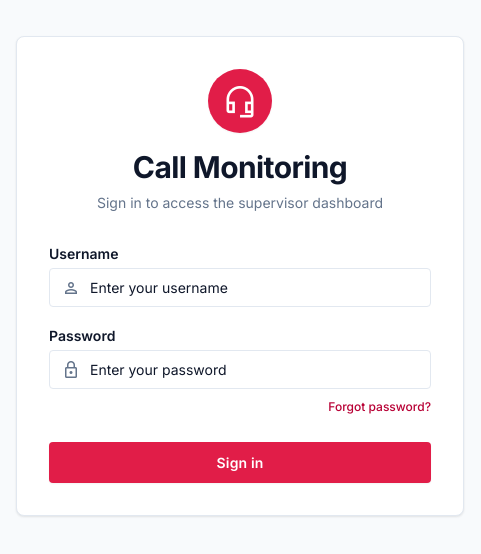
Test: LoginView › shows an error message on invalid credentials
Type "admin" into the field labelled "Username" at (240, 288), box [49,268,431,307]
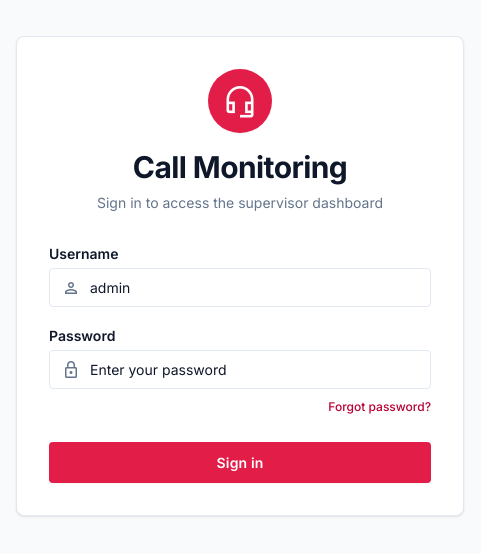
Type "wrong" into the password field labelled "Password" at (240, 370), box [49,350,431,389]
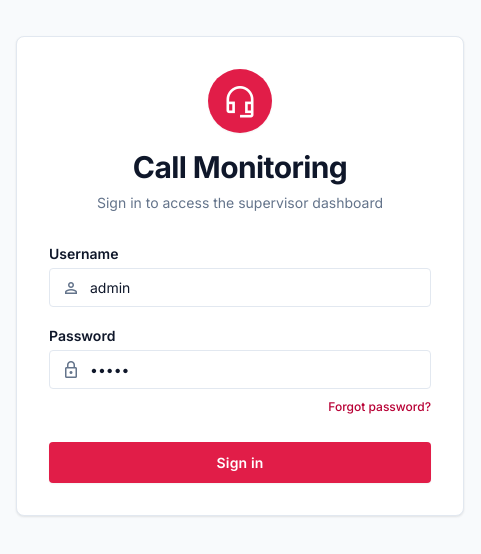
Submit the form, box [49,245,431,483]
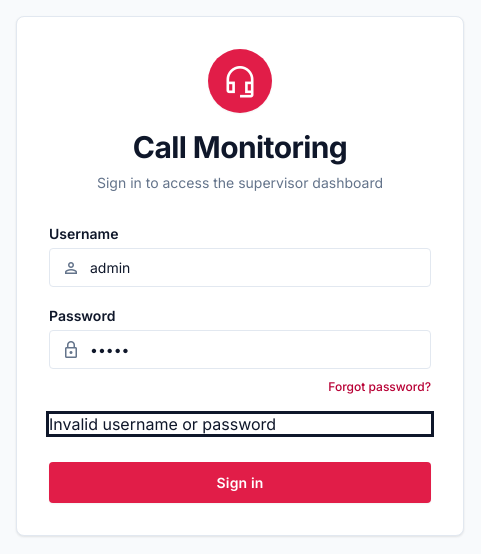
Check: the text "Invalid username or password" is shown, box [49,414,276,434]
